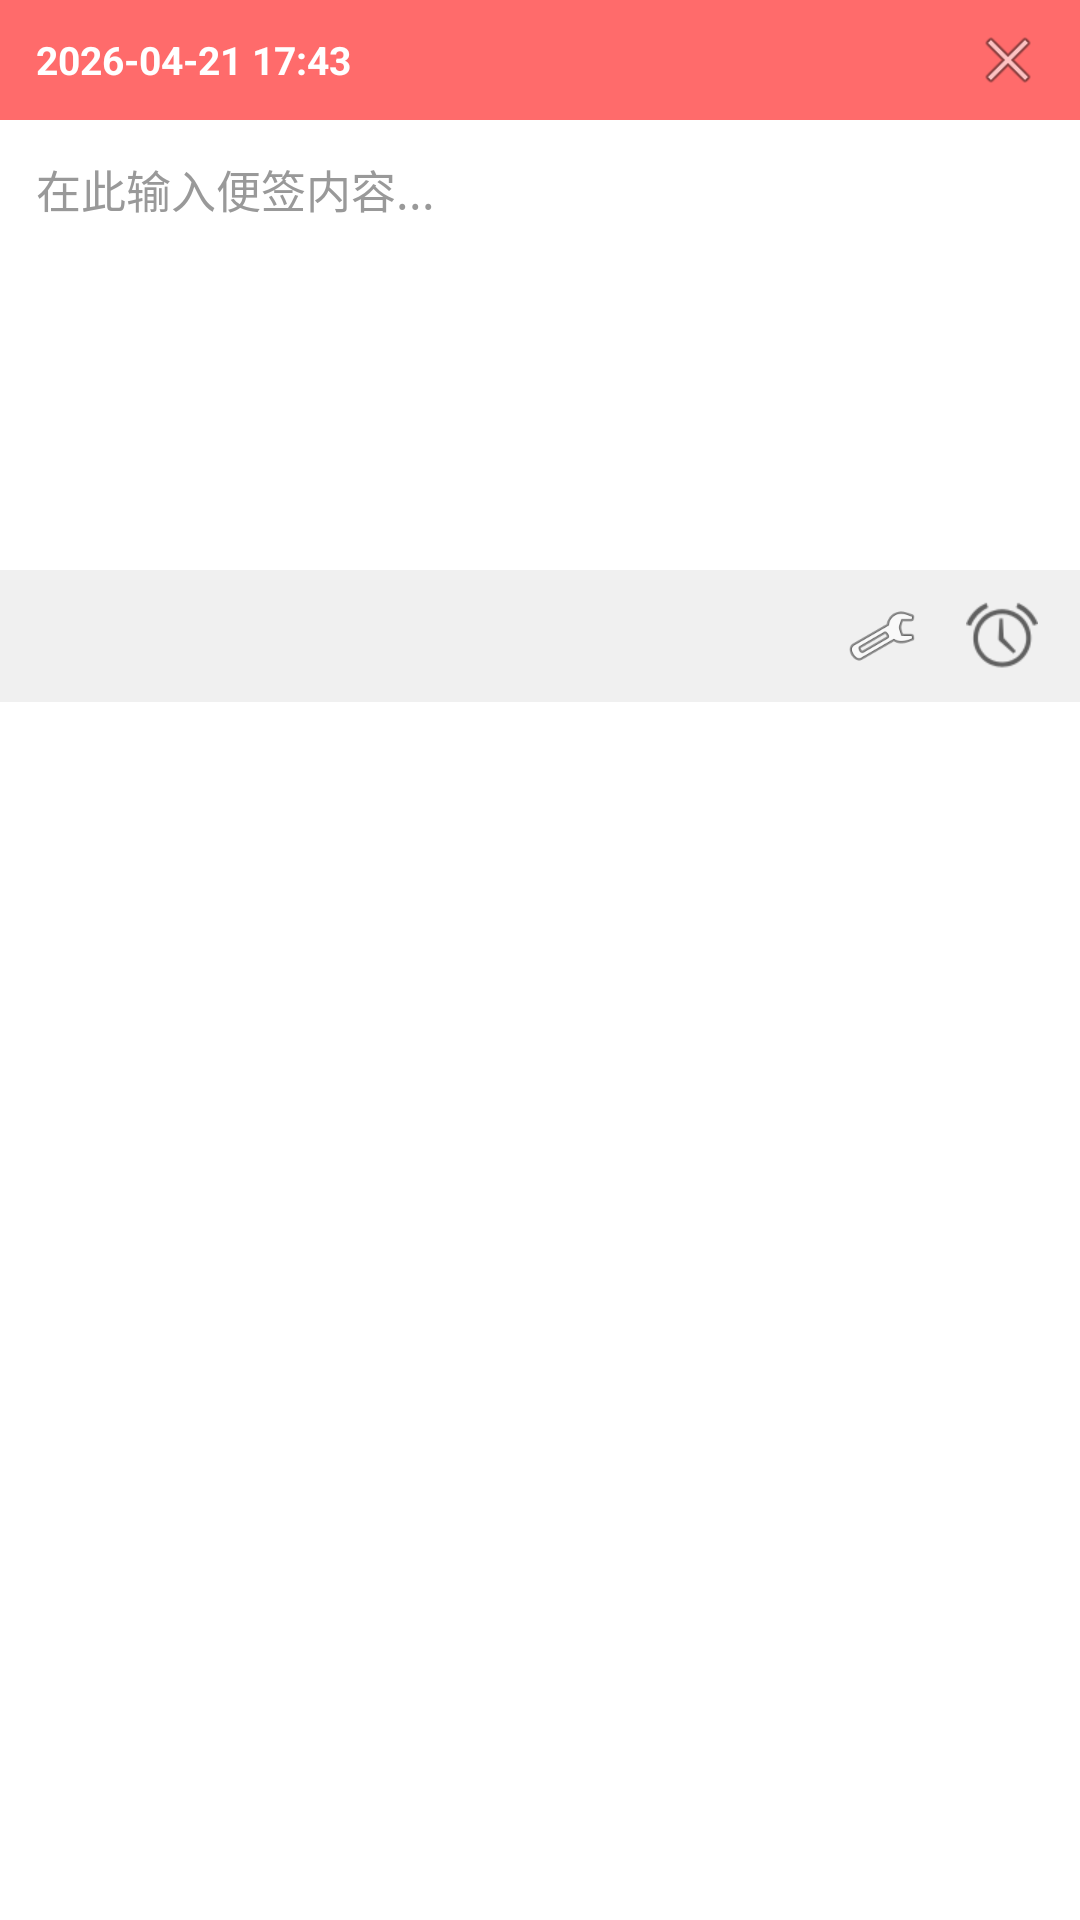

Point at icon controls on the screen. Image size 1080px x 1920px, points as (x,y).
关闭: (1008,60)
设置: (881,636)
闹钟: (1002,635)
